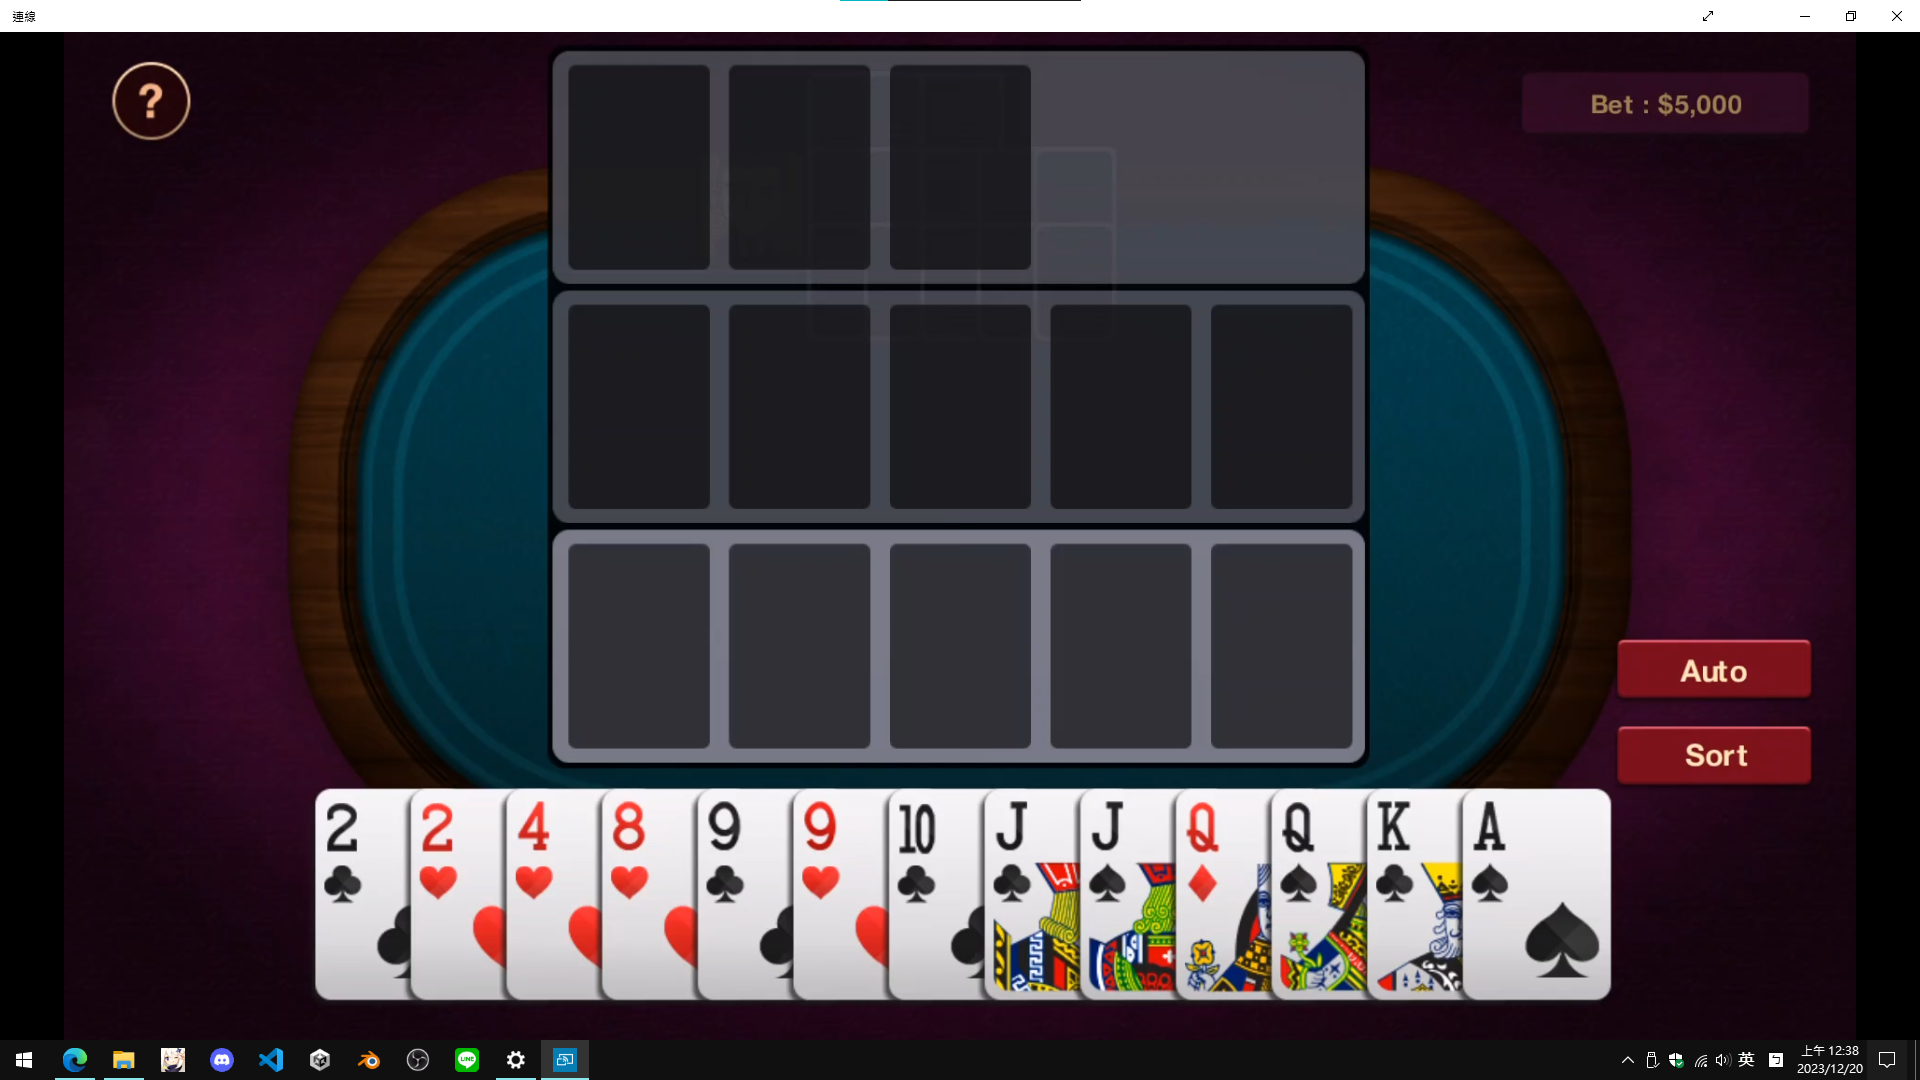10C: (897, 798, 939, 915)
2C: (319, 798, 367, 907)
2H: (417, 799, 460, 915)
4H: (512, 798, 559, 906)
8H: (605, 795, 655, 911)
9C: (703, 795, 746, 915)
9H: (802, 795, 840, 906)
AS: (1469, 794, 1513, 907)
JC: (992, 795, 1036, 911)
JS: (1088, 798, 1130, 910)
KC: (1374, 795, 1418, 907)
QD: (1180, 795, 1226, 906)
QS: (1279, 798, 1327, 907)
